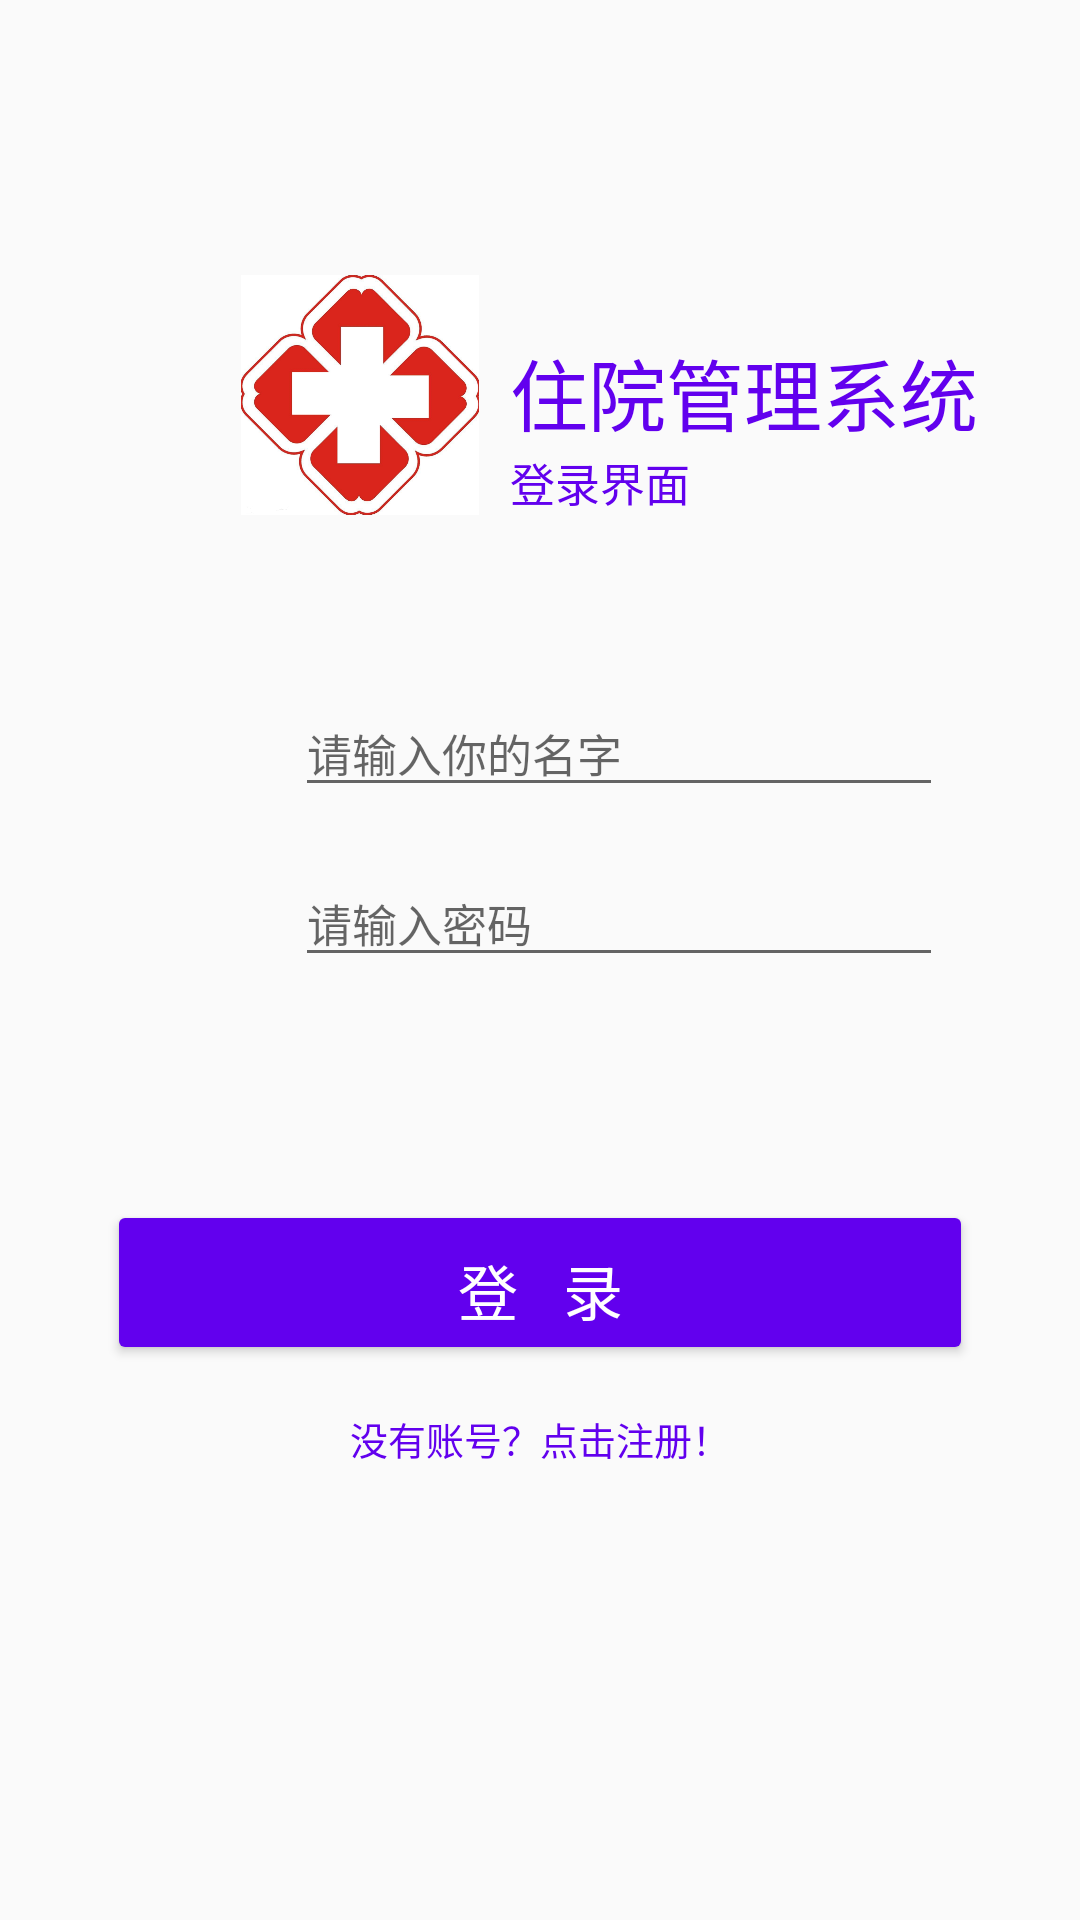

Icons on this 1080x1920 Android screen, each with the point to tap as [x,y]:
hospital: [360,395]
